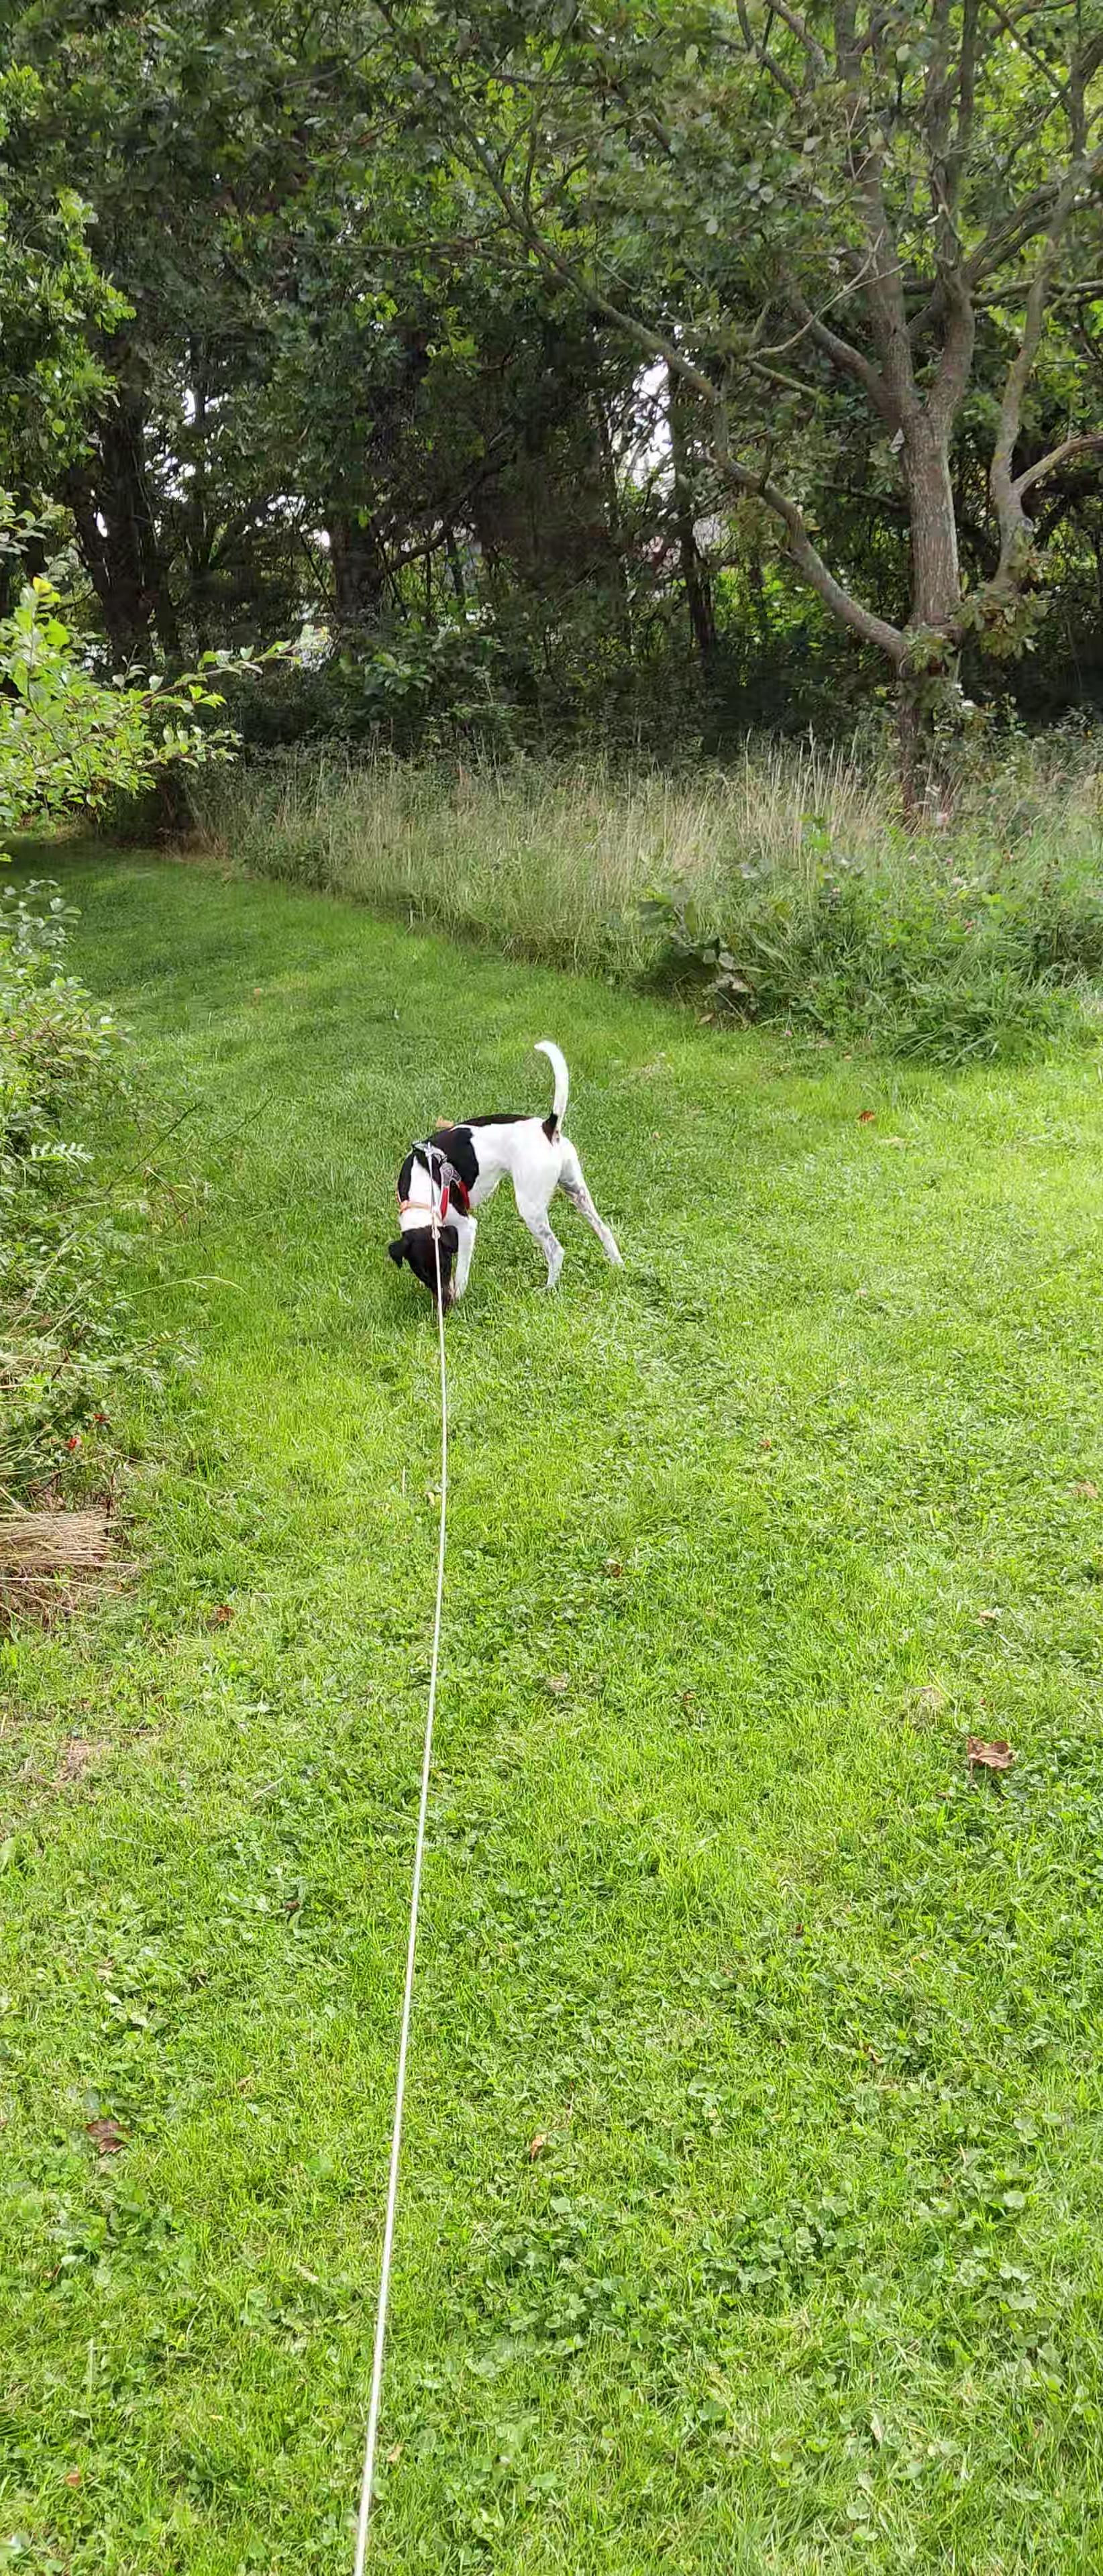Dog: (372, 1028, 643, 1322)
